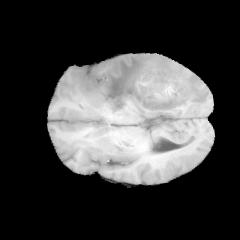glioma: (105, 55, 209, 113)
